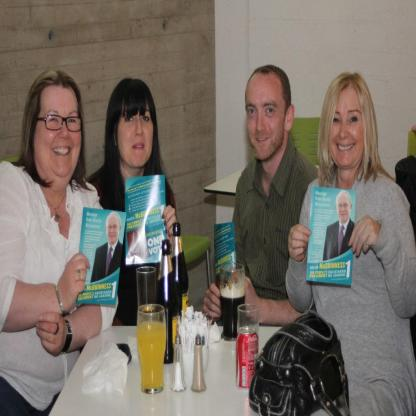Helmet: (250, 317, 352, 412)
